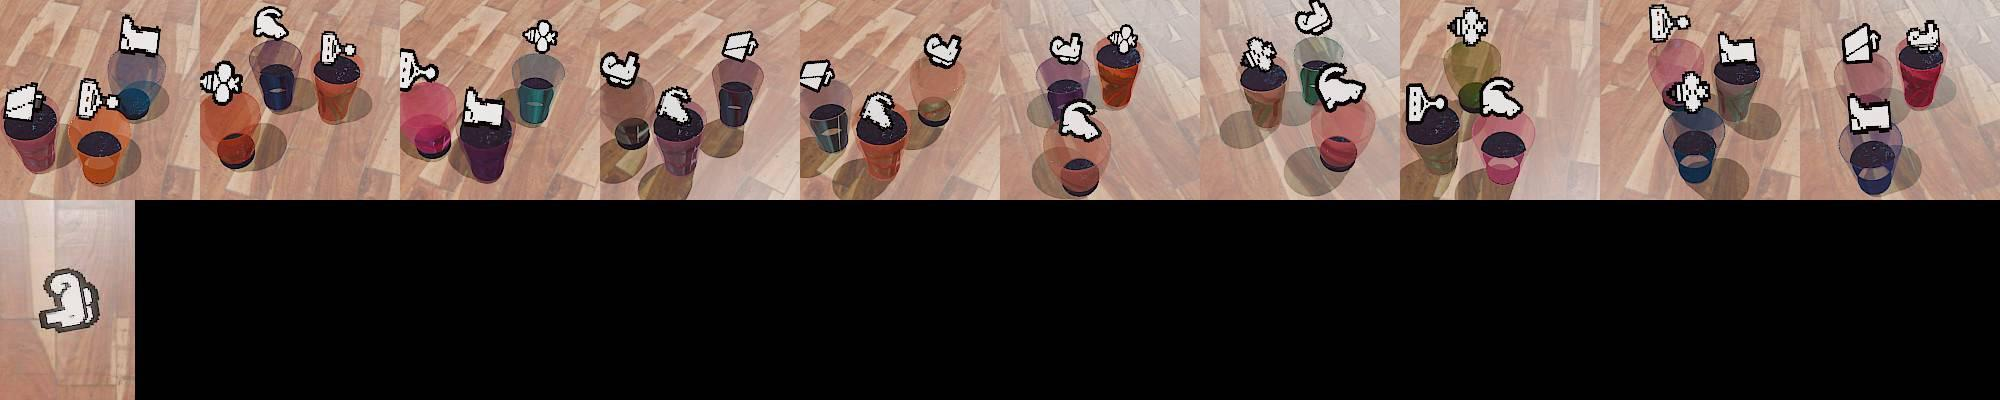icon: (37, 268, 102, 334), (1315, 64, 1369, 112), (1665, 70, 1712, 116), (199, 59, 245, 104), (462, 85, 506, 131), (77, 76, 120, 122), (1057, 97, 1102, 140), (1846, 93, 1894, 132), (1478, 76, 1524, 117), (119, 14, 161, 57), (858, 89, 899, 132), (654, 84, 696, 125), (598, 48, 640, 89), (1648, 3, 1690, 43), (399, 47, 439, 90), (1842, 22, 1881, 65), (1406, 82, 1444, 126), (1240, 34, 1279, 76), (1448, 6, 1490, 45), (4, 83, 43, 122), (1716, 31, 1759, 66), (923, 32, 962, 69), (319, 31, 358, 66), (1295, 0, 1333, 36), (253, 5, 288, 42), (522, 19, 559, 55), (797, 59, 835, 93), (721, 29, 760, 62), (1048, 31, 1083, 65), (1904, 20, 1941, 52), (1106, 23, 1140, 56)
